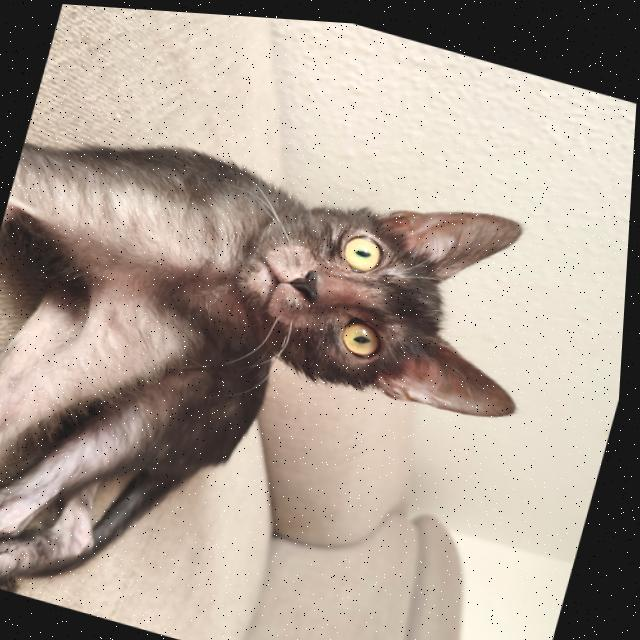Lykoi: (0, 78, 575, 640)
